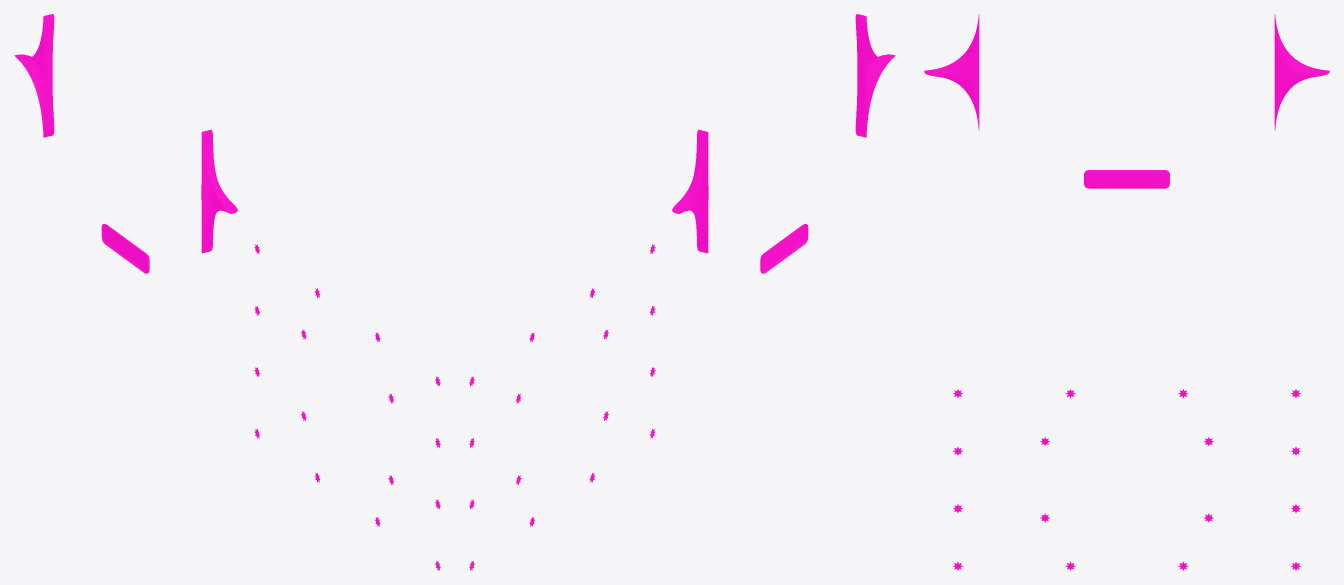
The model's file is portfolio-botones.glb.
The picture shows the model from 3 angles, left to right: view 1: azimuth 30°, elevation 25°; view 2: azimuth 150°, elevation 25°; view 3: azimuth 270°, elevation 25°; orthographic projection. The views are drawn at different scales.
Visible parts, largest first — view 1: m_botonR.002, m_botonL.01, m_botonMid.01; view 2: m_botonL.01, m_botonR.002, m_botonMid.01; view 3: m_botonL.01, m_botonR.002, m_botonMid.01.
Boxes of the visible parts, x1,y1,x2,y2 form: m_botonR.002: (14, 14, 54, 137); m_botonL.01: (201, 129, 237, 253); m_botonMid.01: (101, 224, 149, 273); m_botonL.01: (855, 14, 895, 137); m_botonR.002: (672, 129, 708, 253); m_botonMid.01: (760, 224, 808, 273); m_botonL.01: (924, 14, 979, 130); m_botonR.002: (1274, 14, 1329, 130); m_botonMid.01: (1084, 170, 1169, 188).
Size of the model in its own units: 0.8679 by 1.78 by 1.44.
